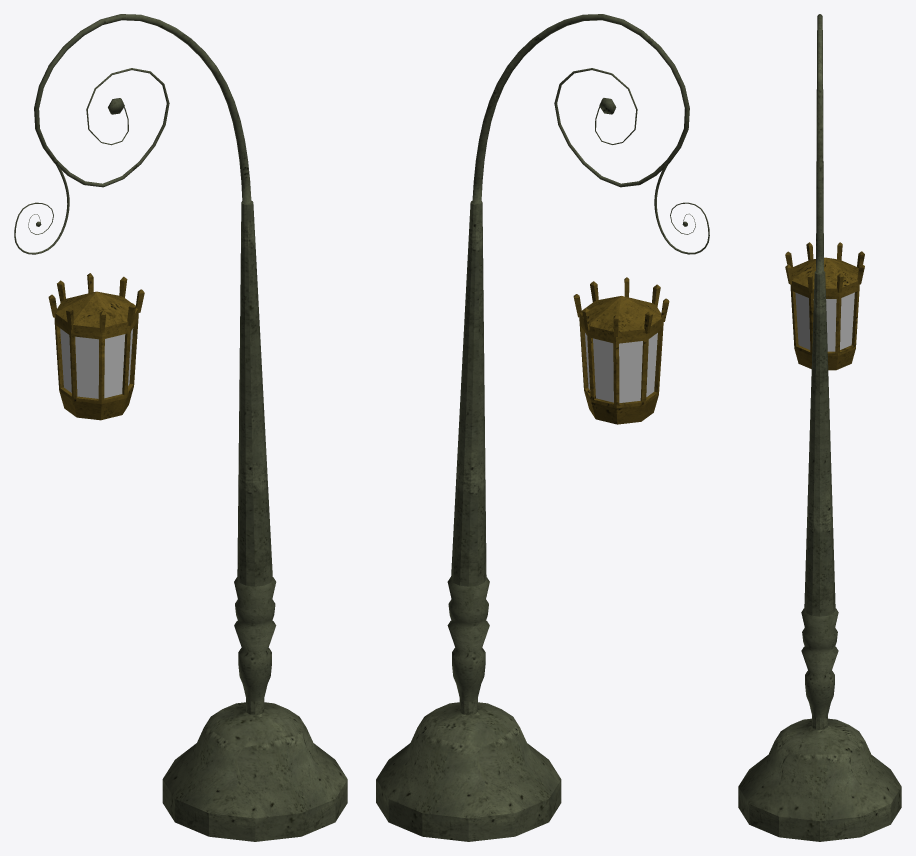
File: lampara.obj
The picture shows the model from 3 angles, left to right: view 1: azimuth 30°, elevation 25°; view 2: azimuth 150°, elevation 25°; view 3: azimuth 270°, elevation 25°; orthographic projection. The views are drawn at different scales.
Parts seen in each view (by area): view 1: Farola_Farola_Tex, Farola_Lampara_uv; view 2: Farola_Farola_Tex, Farola_Lampara_uv; view 3: Farola_Farola_Tex, Farola_Lampara_uv.
Part boxes in pixels (box(x1,y1,x2,y2)): Farola_Farola_Tex: box(14, 14, 347, 841); Farola_Lampara_uv: box(60, 328, 133, 398); Farola_Farola_Tex: box(376, 14, 709, 841); Farola_Lampara_uv: box(585, 333, 657, 402); Farola_Farola_Tex: box(738, 14, 901, 841); Farola_Lampara_uv: box(795, 292, 854, 351).
Size of the model in its own units: 0.9291 by 2.27 by 0.4642.
Materials: 3 (1 with a texture image).
